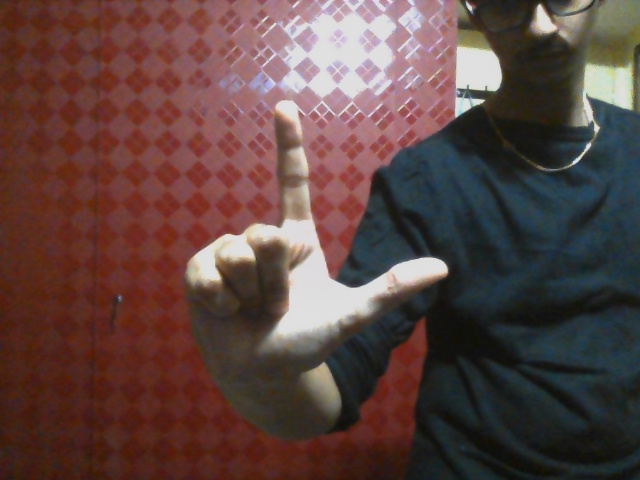L: (182, 99, 457, 369)
